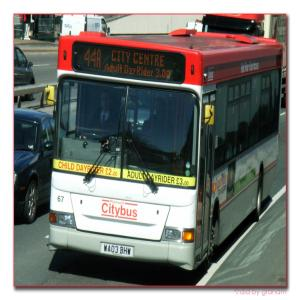Vehicle-registration-plate: (102, 244, 134, 258)
